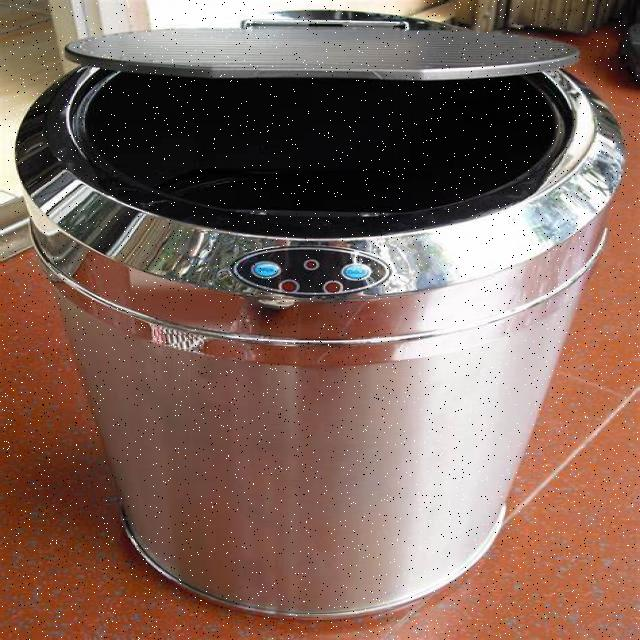garbage container: (14, 3, 636, 622)
